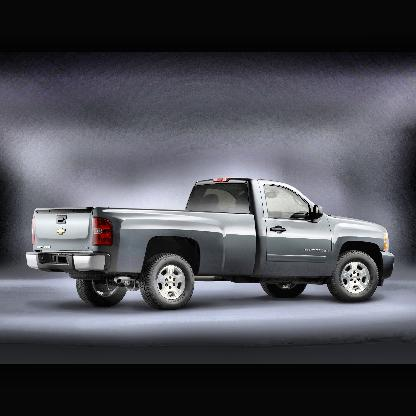Chevrolet Silverado 2500HD Regular Cab 2012: (26, 177, 395, 311)
